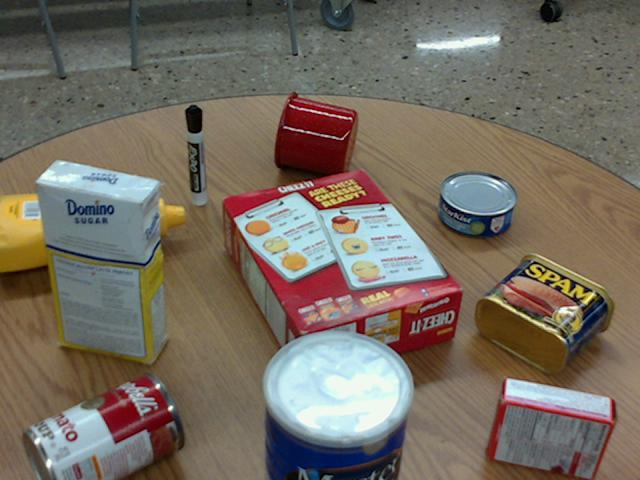cracker_box: (219, 169, 461, 376)
gelatin_box: (487, 376, 613, 478)
large_marker: (184, 105, 205, 204)
master_chef_can: (260, 331, 410, 479)
mug: (274, 91, 357, 176)
mustard_bottle: (0, 188, 183, 272)
potted_meat_can: (476, 252, 613, 373)
sugar_box: (35, 159, 163, 364)
tomato_soup_can: (24, 371, 183, 479)
tuna_fish_can: (438, 171, 516, 236)
